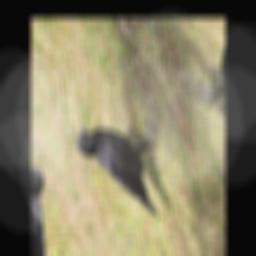Crow: (73, 87, 191, 250)
